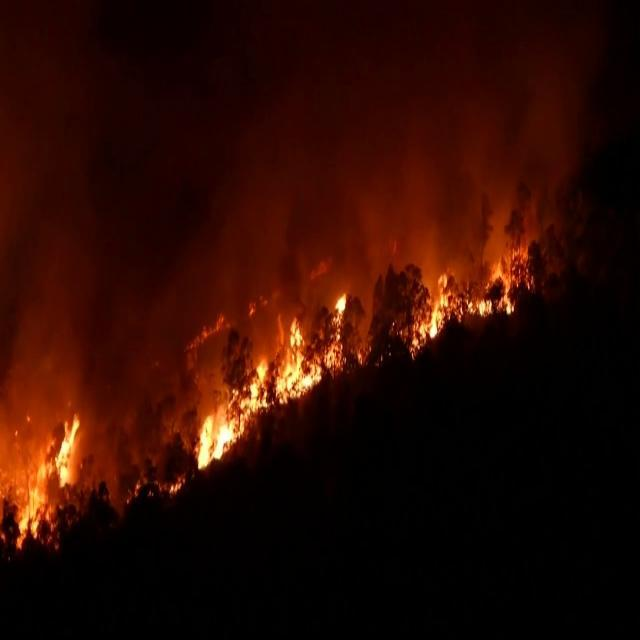Fire: (194, 265, 348, 472), (408, 242, 536, 362), (13, 412, 84, 552), (168, 478, 186, 494)
Smoke: (0, 1, 598, 515)
